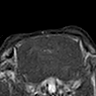Brain: (19, 37, 82, 82)
